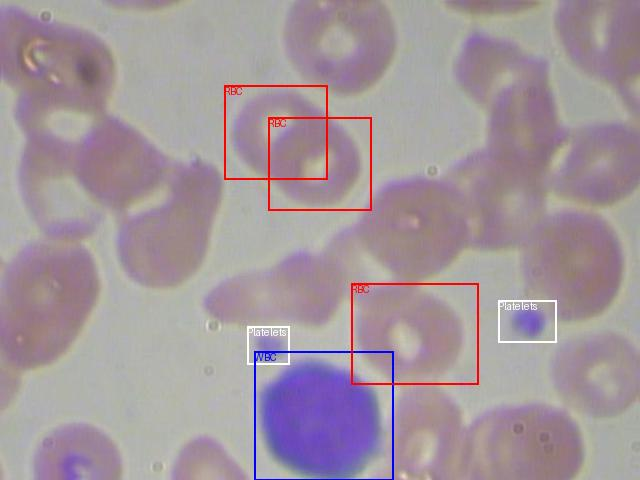Platelets: (498, 300, 556, 342), (247, 326, 289, 364)
RBC: (351, 283, 478, 384), (224, 85, 327, 179), (268, 117, 371, 210)
WBC: (254, 351, 393, 480)
